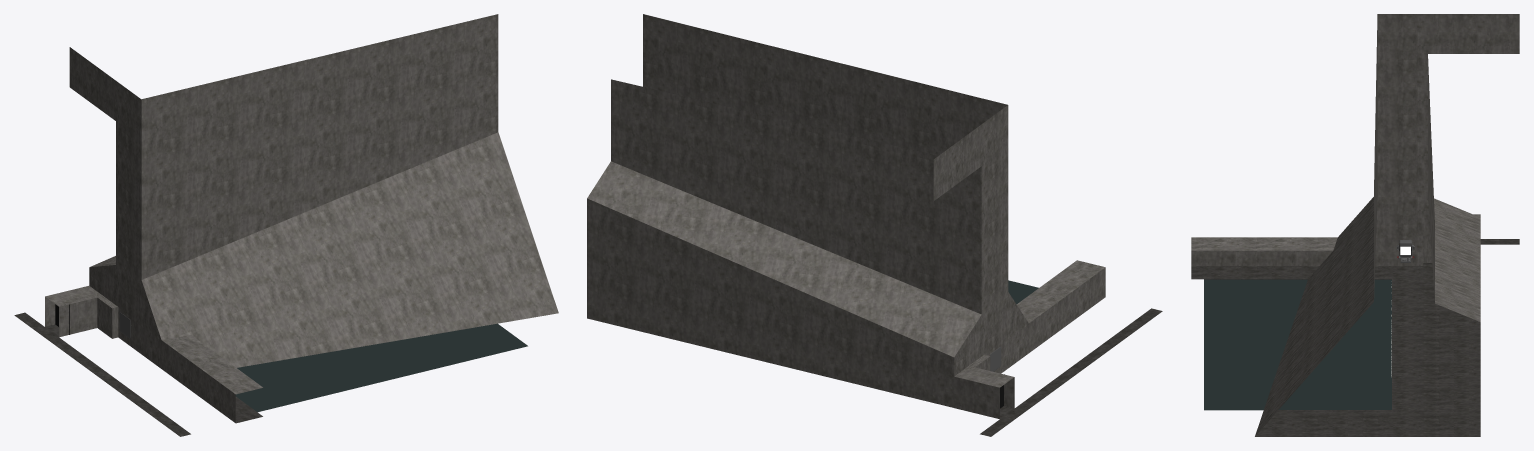
The model's file is gallery.glb.
The picture shows the model from 3 angles, left to right: view 1: azimuth 30°, elevation 25°; view 2: azimuth 150°, elevation 25°; view 3: azimuth 270°, elevation 25°; orthographic projection. The views are drawn at different scales.
Parts seen in each view (by area): view 1: Gallery; view 2: Gallery; view 3: Gallery, Terminal.
Boxes of the visible parts, bbox=[...] form: Gallery: bbox=[14, 14, 558, 436]; Gallery: bbox=[587, 14, 1162, 436]; Gallery: bbox=[1191, 14, 1519, 436]; Terminal: bbox=[1396, 240, 1414, 262].
Bounding box in the file's own units: 37.06 × 22.4 × 26.
13 materials, 3 textured.
